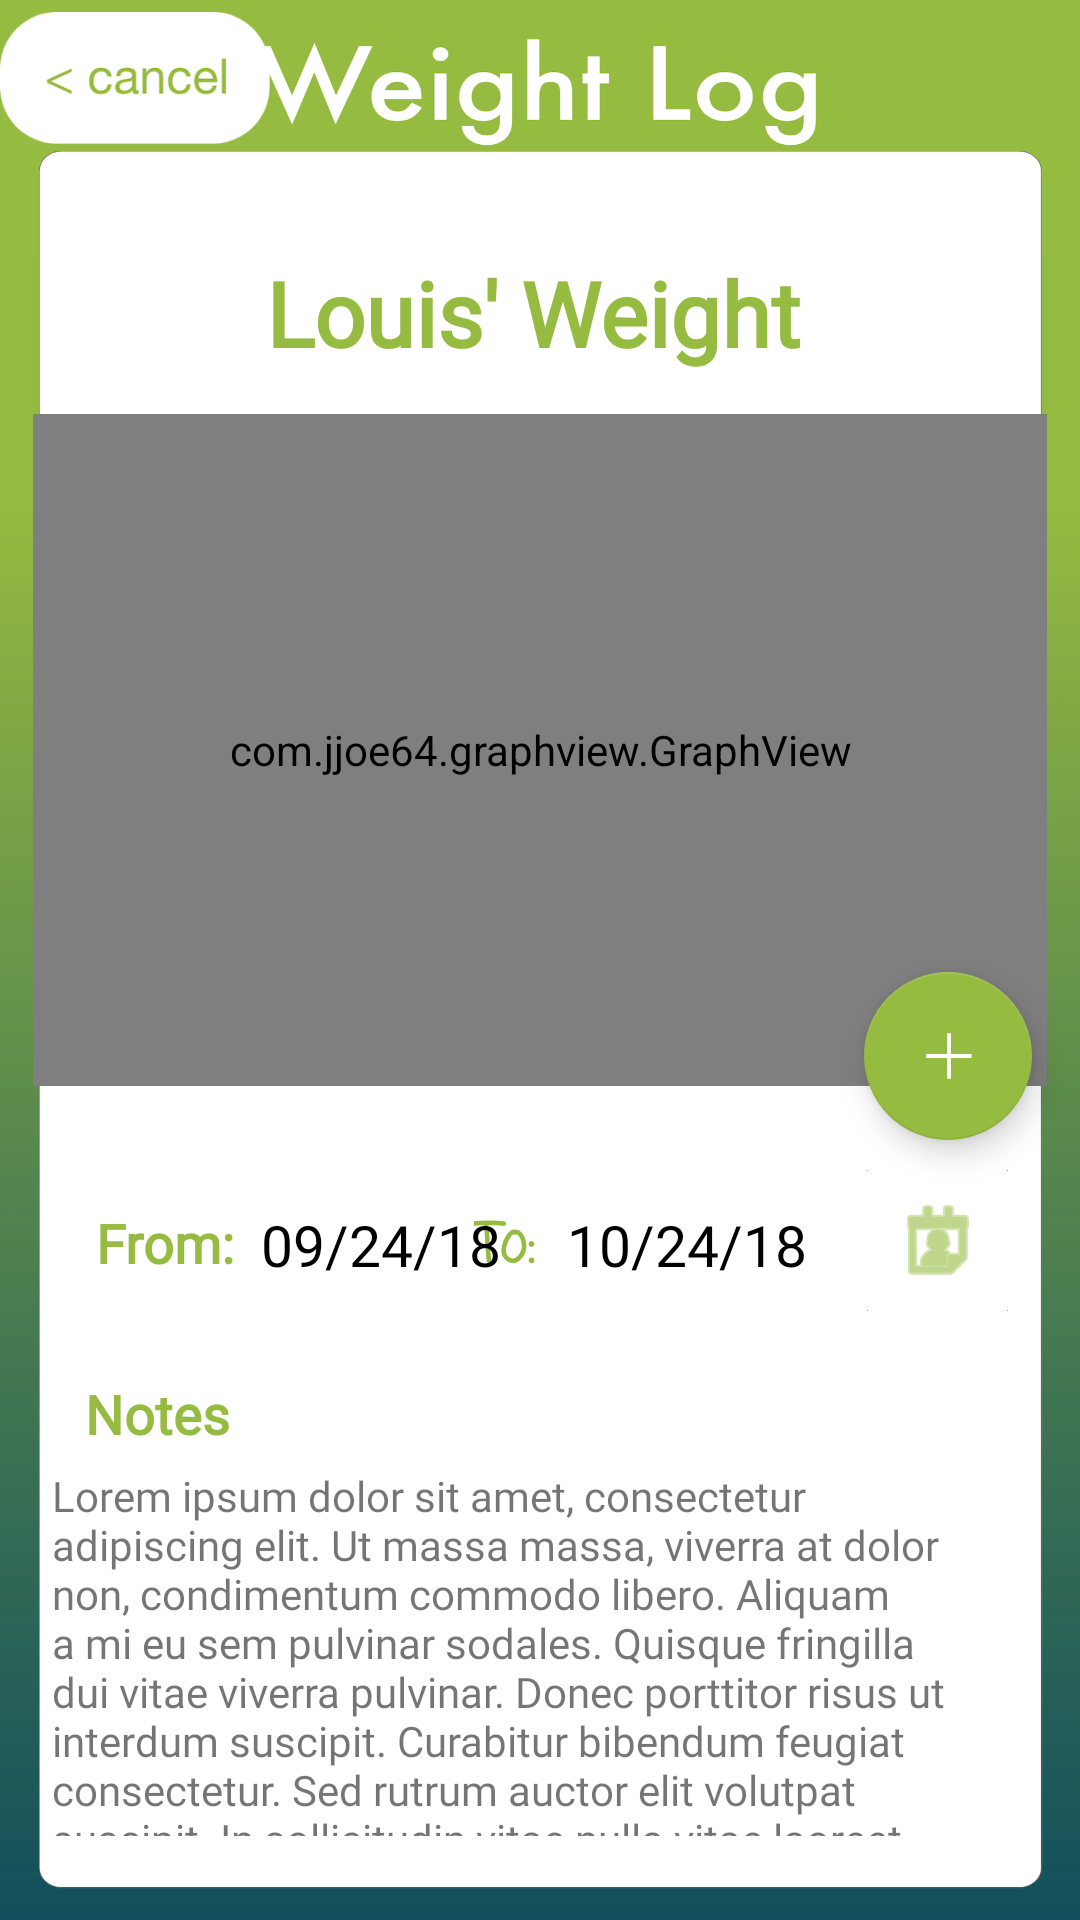

Point at icon controls on the screen. Image size 1080w x 1920h, points as [x,y].
addbutton: [948,1056]
